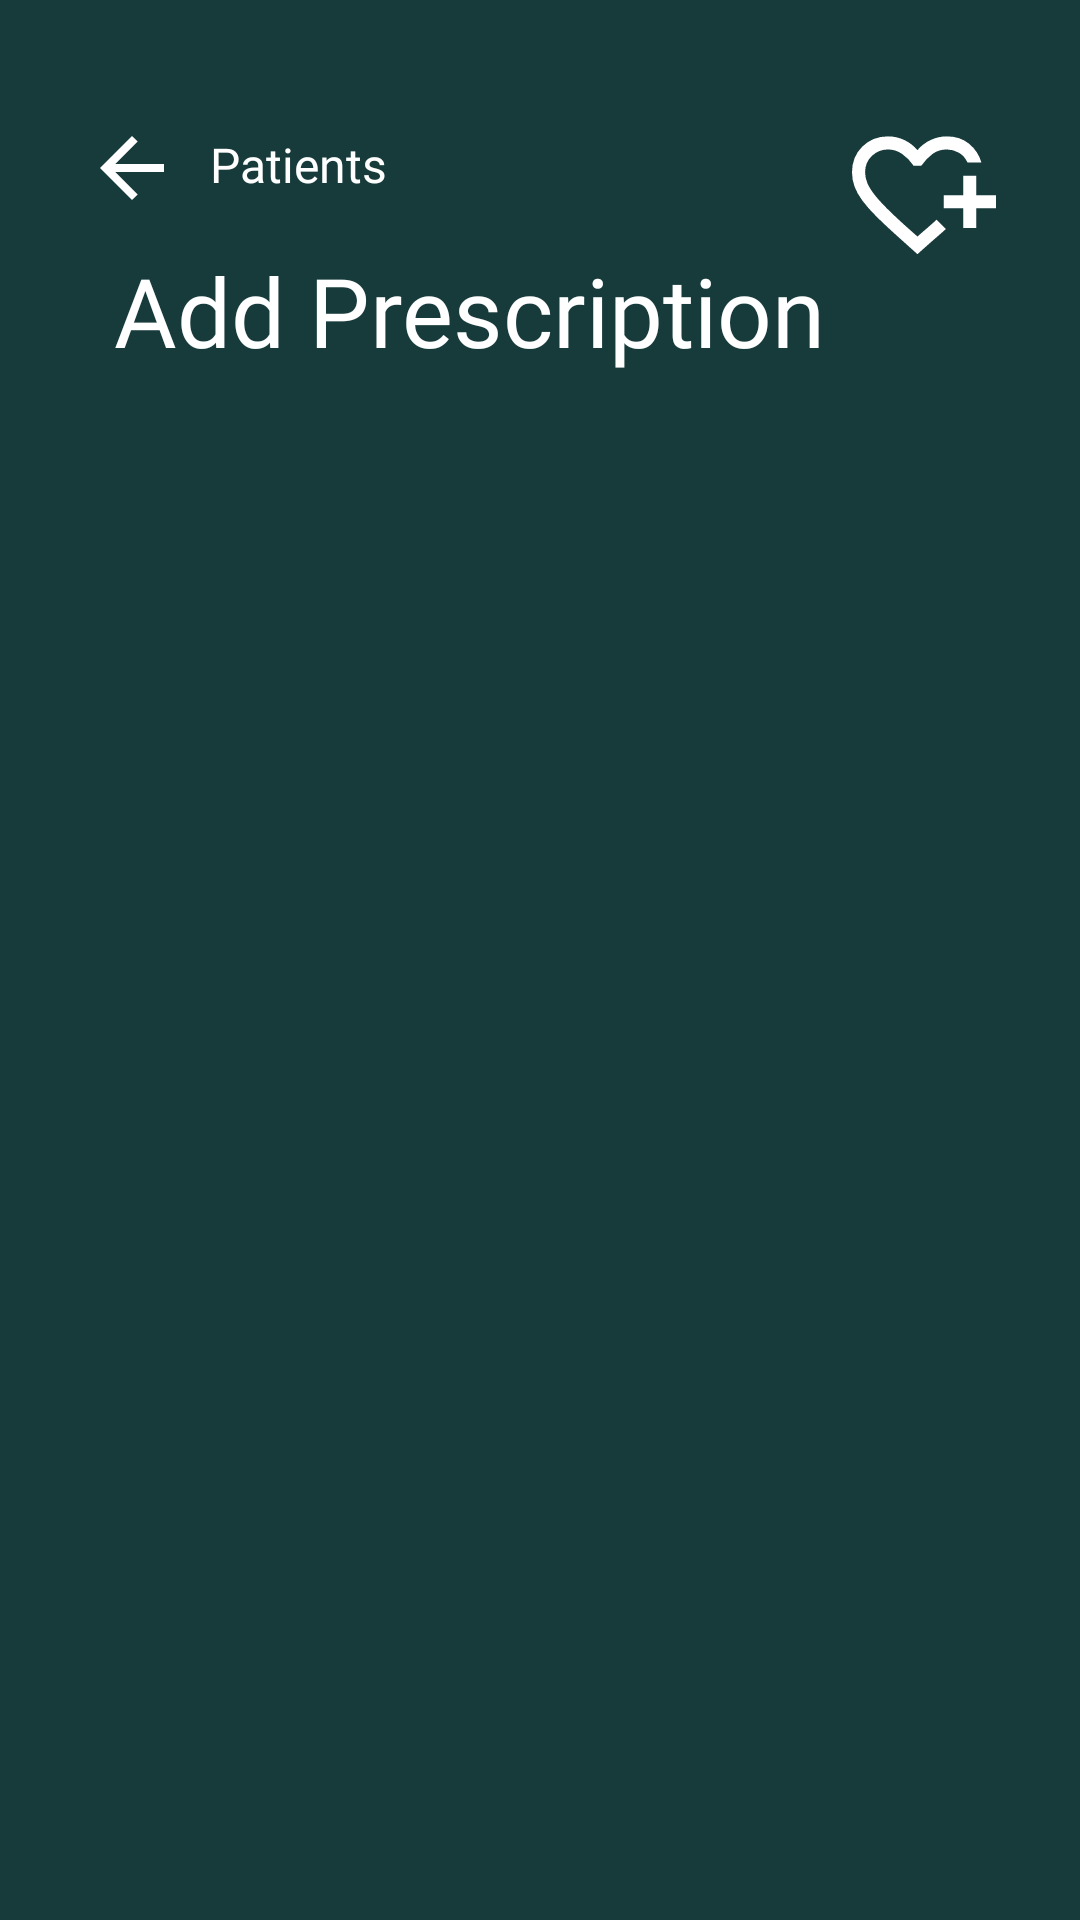

Locate icon controls on the screen. Image size 1080w x 1920h, boxes as [x1=x1, y1=y1, x2=x2, y2=y2].
arrow back doctor: [x1=100, y1=136, x2=164, y2=200]
